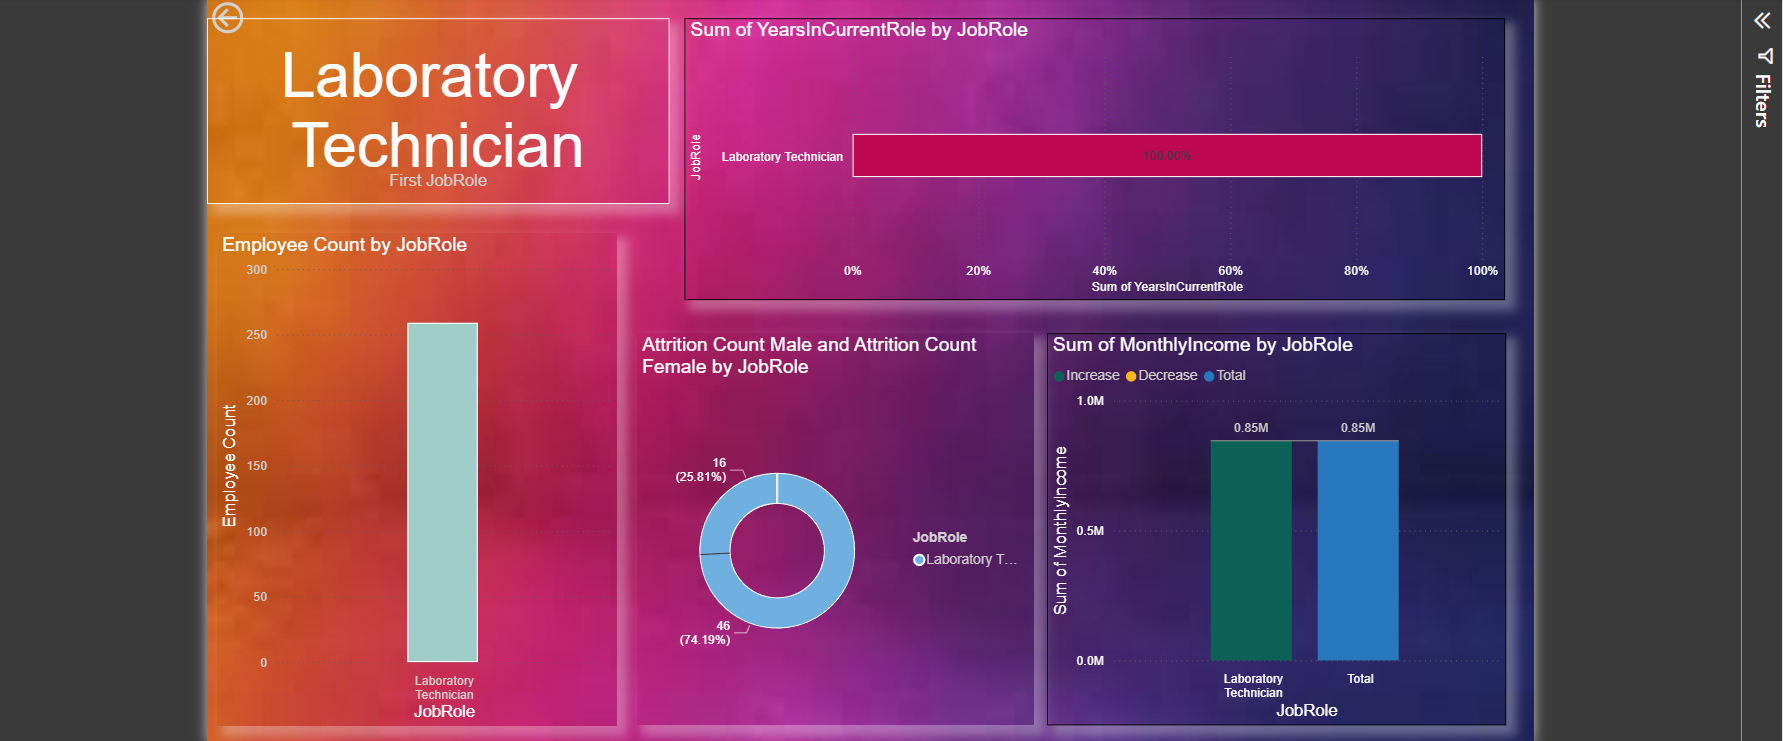

What the dashboard file says about the page in this screenshot:
{"tool":"powerbi","page":{"name":"JobRole Breakdown","canvas":[1280,720],"ordinal":2},"visuals":[{"type":"actionButton","box":[0,0,100,40],"z":0},{"type":"columnChart","fields":{"Category":["HR_Analytics.JobRole"],"Y":["HR_Analytics.Employee Count"]},"box":[10.1,228.4,386,475.7],"z":1000},{"type":"donutChart","fields":{"Category":["HR_Analytics.JobRole"],"Y":["HR_Analytics.Attrition Count Male","HR_Analytics.Attrition Count Female"]},"box":[415.4,324.6,383.1,378.5],"z":2000},{"type":"waterfallChart","fields":{"Category":["HR_Analytics.JobRole"],"Y":["Sum(HR_Analytics.MonthlyIncome)"]},"box":[810.8,324.6,443.1,378.5],"z":3000},{"type":"hundredPercentStackedBarChart","fields":{"Category":["HR_Analytics.JobRole"],"Y":["Sum(HR_Analytics.YearsInCurrentRole)"]},"box":[461.2,20.2,792.3,271.8],"z":4000},{"type":"card","fields":{"Values":["Min(HR_Analytics.JobRole)"]},"box":[0,20.2,446.7,179.3],"z":5000}]}

Visuals, with their boxes on the page's 1280x720 design canvas (x1, y1, x2, y2). These are canvas units, not pixel positions in the 1783x741 screenshot, which may show the page scaled, cropped or inside an application window:
actionButton: box=[0, 0, 100, 40]
columnChart - HR_Analytics.JobRole x HR_Analytics.Employee Count: box=[10, 228, 396, 704]
donutChart - HR_Analytics.JobRole x HR_Analytics.Attrition Count Male: box=[415, 325, 798, 703]
waterfallChart - HR_Analytics.JobRole x Sum(HR_Analytics.MonthlyIncome): box=[811, 325, 1254, 703]
hundredPercentStackedBarChart - HR_Analytics.JobRole x Sum(HR_Analytics.YearsInCurrentRole): box=[461, 20, 1254, 292]
card - Min(HR_Analytics.JobRole): box=[0, 20, 447, 200]
